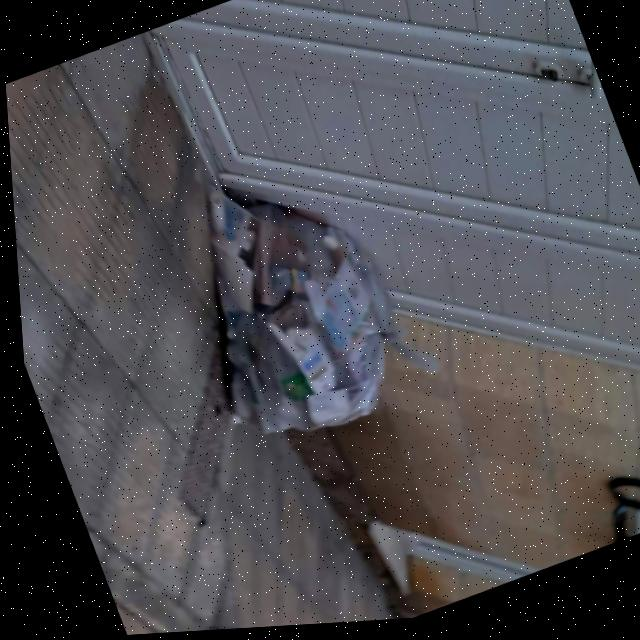Recycled Waste -Grey or Green Bag-: (141, 131, 440, 466)
